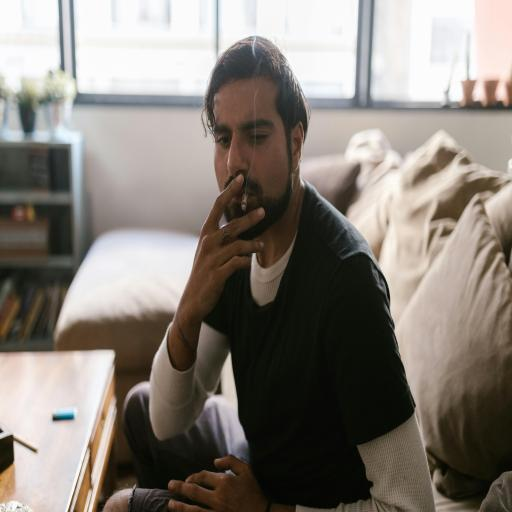terdeteksi merokok: (214, 102, 281, 235)
